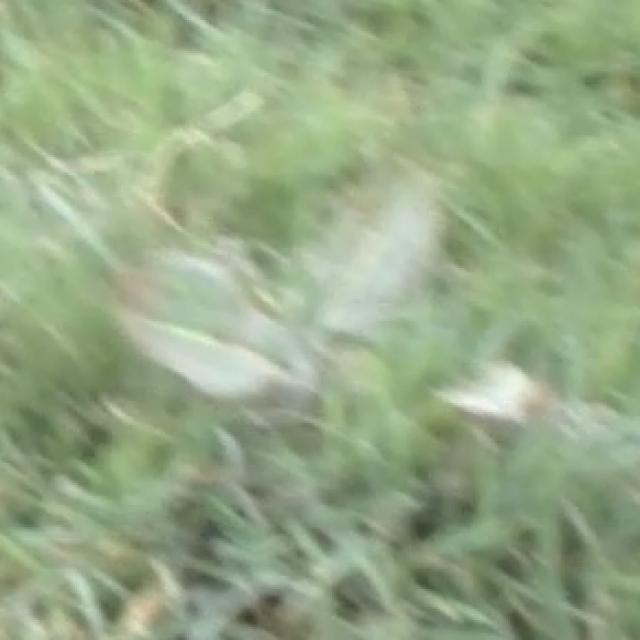organic waste: (70, 157, 586, 498)
